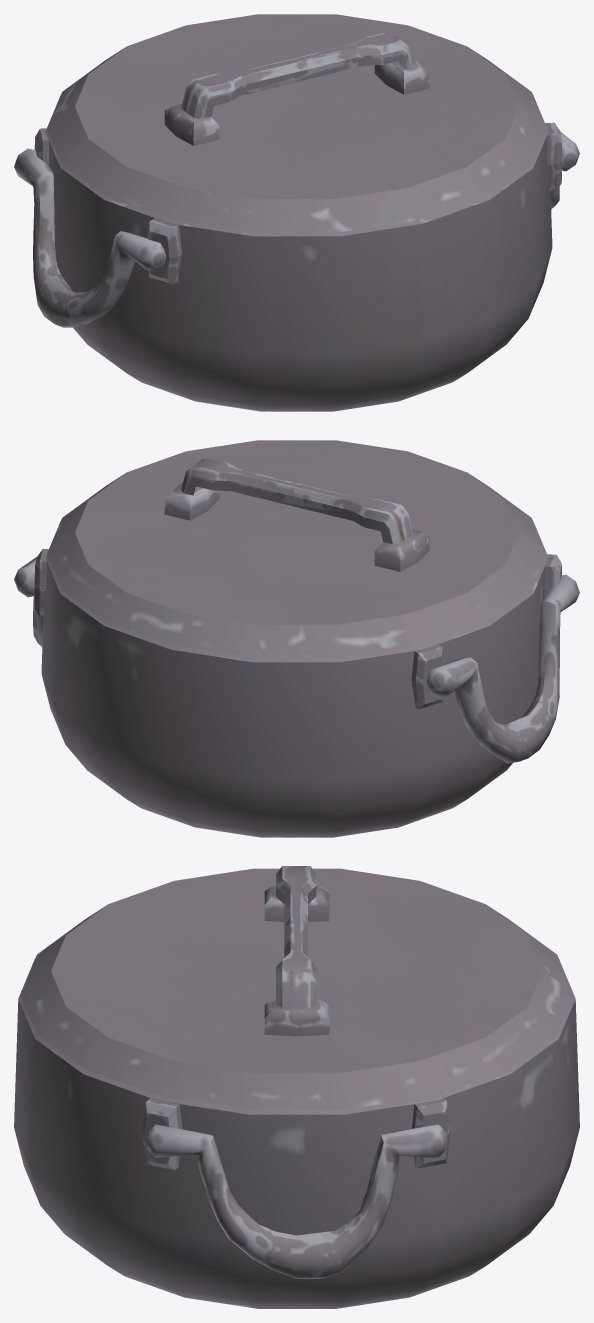
File: Pot_1_Lid.gltf
3 views of the same model, one above another, from view 1: azimuth 30°, elevation 25°; view 2: azimuth 150°, elevation 25°; view 3: azimuth 270°, elevation 25° (orthographic). The views are drawn at different scales.
Parts seen in each view (by area): view 1: Pot_1_Lid; view 2: Pot_1_Lid; view 3: Pot_1_Lid.
Part boxes in pixels (box(x1,y1,x2,y2)): Pot_1_Lid: box(14, 14, 579, 411); Pot_1_Lid: box(14, 440, 579, 837); Pot_1_Lid: box(14, 866, 579, 1308).
Size of the model in its own units: 0.5393 by 0.2805 by 0.486.
1 material, 1 textured.
